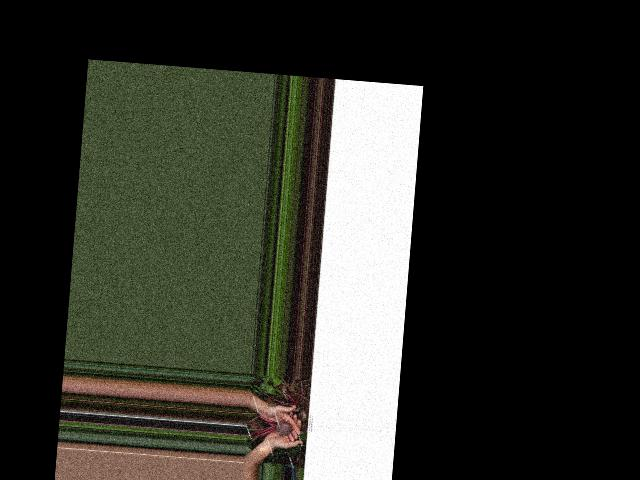beet: (246, 414, 294, 445)
